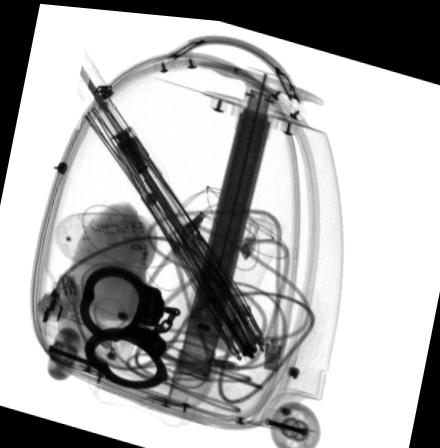HandCuffs: (75, 262, 185, 387)
